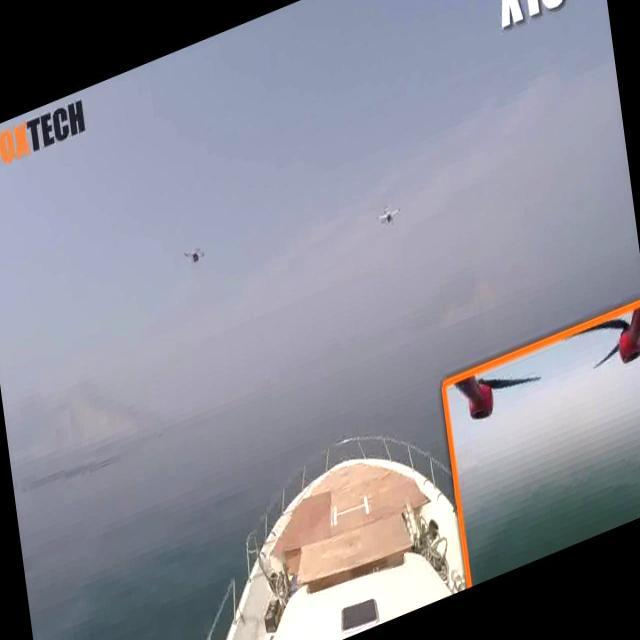drone: (375, 202, 403, 234), (184, 246, 208, 270)
